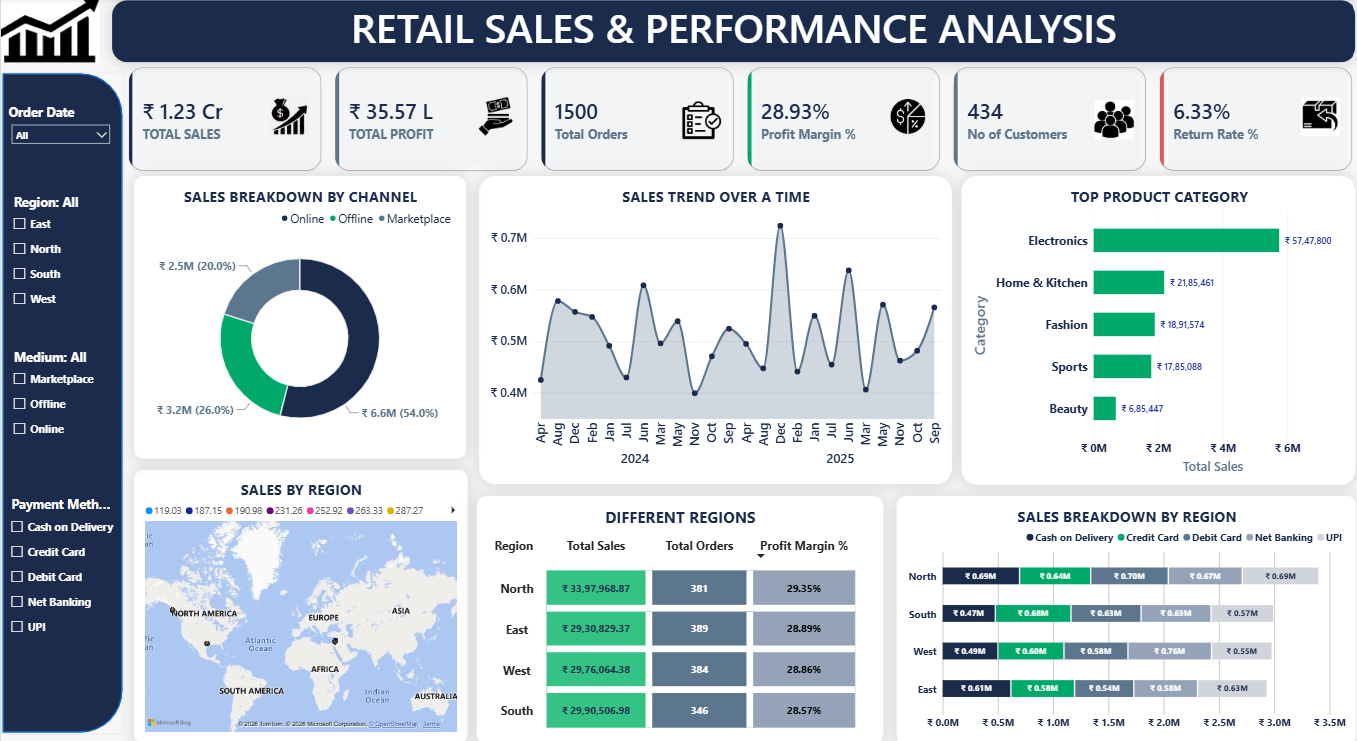

The dashboard page shown, as its layout file describes it:
{"tool":"powerbi","page":{"name":"Page 1","canvas":[2000,1100],"ordinal":0},"visuals":[{"type":"textbox","box":[162.2,1.8,1837.6,94],"z":1000},{"type":"cardVisual","fields":{"Data":["retail_sales.Sales in Cr","retail_sales.Sales in Lakhs","retail_sales.Total Orders","retail_sales.Profit Margin %","Count(retail_sales.Customer_ID)","retail_sales.Return Rate %"]},"box":[182.5,95.8,1817.4,165.9],"z":2000},{"type":"lineChart","title":"SALES TREND OVER A TIME","fields":{"Category":["retail_sales.Order_Date.Variation.Date Hierarchy.Year","retail_sales.Months"],"Y":["retail_sales.Total Sales"]},"box":[705,262,699.3,456.2],"z":3000},{"type":"clusteredBarChart","title":"TOP PRODUCT CATEGORY","fields":{"Category":["retail_sales.Category"],"Y":["retail_sales.Total Sales"]},"box":[1415.6,261.7,584.3,457.1],"z":4000},{"type":"map","title":"SALES BY REGION","fields":{"Category":["retail_sales.Region"],"Series":["retail_sales.Sales_INR"]},"box":[196,695.6,493.9,405.3],"z":5000},{"type":"donutChart","title":"SALES BREAKDOWN BY  CHANNEL ","fields":{"Category":["retail_sales.Sales_Channel"],"Y":["retail_sales.Total Sales"]},"box":[195.4,261.3,490.8,418.1],"z":6000},{"type":"pivotTable","title":"DIFFERENT REGIONS","fields":{"Rows":["retail_sales.Region"],"Values":["retail_sales.Total Sales","retail_sales.Total Orders","retail_sales.Profit Margin %"]},"box":[701.2,733.3,601.3,367.6],"z":7000},{"type":"shape","box":[0,109.1,181.8,977.1],"z":8000},{"type":"image","box":[0,0,145.4,95.4],"z":9000},{"type":"barChart","title":"SALES BREAKDOWN BY REGION","fields":{"Category":["retail_sales.Region"],"Series":["retail_sales.Payment_Method"],"Y":["retail_sales.Total Sales"]},"box":[1319.5,733.3,680.5,367.6],"z":10000},{"type":"slicer","title":"Order Date","fields":{"Values":["retail_sales.Order_Date"]},"box":[10.9,154.9,154.9,76.3],"z":11000},{"type":"slicer","fields":{"Values":["retail_sales.Region"]},"box":[10.9,287.9,150.5,187.6],"z":12000},{"type":"slicer","fields":{"Values":["retail_sales.Sales_Channel"]},"box":[11.1,516.1,154.8,162.2],"z":13000},{"type":"slicer","fields":{"Values":["retail_sales.Payment_Method"]},"box":[7.2,732.9,175.5,229.8],"z":14000}]}

Visuals, with their boxes in screenshot pixels (x1, y1, x2, y2), scaled from the page's 2000x1100 canvas onto the 1357x741 screenshot:
textbox: 110:1:1356:65
cardVisual - retail_sales.Sales in Cr x retail_sales.Sales in Lakhs: 124:65:1356:176
"SALES TREND OVER A TIME" lineChart: 478:176:953:484
"TOP PRODUCT CATEGORY" clusteredBarChart: 960:176:1356:484
"SALES BY REGION" map: 133:469:468:740
"SALES BREAKDOWN BY  CHANNEL " donutChart: 133:176:466:458
"DIFFERENT REGIONS" pivotTable: 476:494:884:740
shape: 0:73:123:732
image: 0:0:99:64
"SALES BREAKDOWN BY REGION" barChart: 895:494:1356:740
"Order Date" slicer: 7:104:112:156
slicer - retail_sales.Region: 7:194:110:320
slicer - retail_sales.Sales_Channel: 8:348:113:457
slicer - retail_sales.Payment_Method: 5:494:124:649
